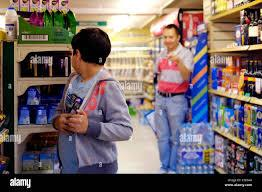shoplifting: (34, 75, 100, 147)
